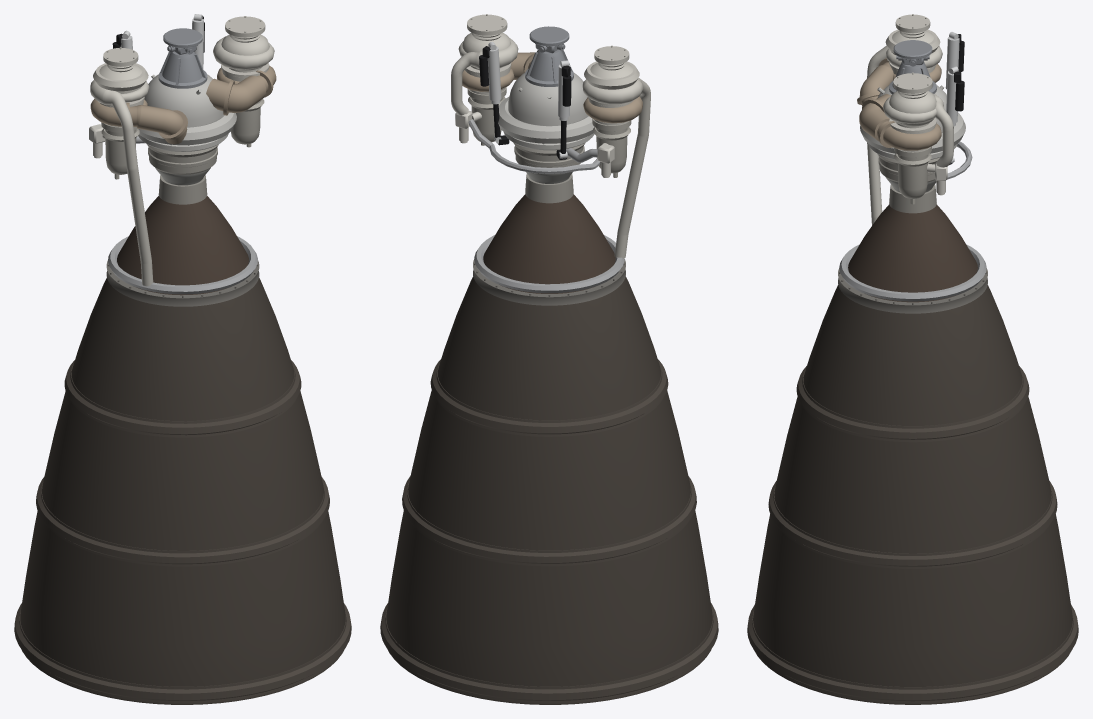
File: m2_vacuum.glb
3 renders of one model, left to right at view 1: azimuth 30°, elevation 25°; view 2: azimuth 150°, elevation 25°; view 3: azimuth 270°, elevation 25°, orthographic. The views are drawn at different scales.
Visible parts, largest first — view 1: M2V_NozzleExtension, M2V_HatRibs, M2V_RegenNozzle, M2V_Turbopumps, M2V_HotGasDucts, M2V_InjectorDome, M2V_ChamberJacket, M2V_Preburners, M2V_GimbalMount, M2V_ExtensionFlange, M2V_Lines, M2V_Actuators; view 2: M2V_NozzleExtension, M2V_HatRibs, M2V_RegenNozzle, M2V_Turbopumps, M2V_InjectorDome, M2V_Lines, M2V_Preburners, M2V_Actuators, M2V_ExtensionFlange, M2V_ChamberJacket, M2V_GimbalMount, M2V_HotGasDucts; view 3: M2V_NozzleExtension, M2V_HatRibs, M2V_RegenNozzle, M2V_Turbopumps, M2V_HotGasDucts, M2V_Lines, M2V_ExtensionFlange, M2V_Preburners, M2V_Actuators, M2V_ChamberJacket, M2V_GimbalMount, M2V_InjectorDome.
Boxes of the visible parts, bbox=[...] form: M2V_NozzleExtension: bbox=[20, 277, 345, 704]; M2V_HatRibs: bbox=[14, 360, 351, 703]; M2V_RegenNozzle: bbox=[117, 168, 248, 295]; M2V_Turbopumps: bbox=[90, 16, 274, 286]; M2V_HotGasDucts: bbox=[90, 65, 276, 144]; M2V_InjectorDome: bbox=[138, 74, 236, 151]; M2V_ChamberJacket: bbox=[147, 144, 218, 204]; M2V_Preburners: bbox=[89, 99, 264, 179]; M2V_GimbalMount: bbox=[158, 28, 207, 88]; M2V_ExtensionFlange: bbox=[106, 260, 259, 306]; M2V_Lines: bbox=[108, 136, 257, 294]; M2V_Actuators: bbox=[112, 14, 204, 68]; M2V_NozzleExtension: bbox=[386, 276, 712, 704]; M2V_HatRibs: bbox=[380, 359, 718, 703]; M2V_RegenNozzle: bbox=[483, 172, 615, 293]; M2V_Turbopumps: bbox=[451, 14, 650, 258]; M2V_InjectorDome: bbox=[498, 73, 594, 150]; M2V_Lines: bbox=[468, 119, 624, 293]; M2V_Preburners: bbox=[455, 87, 631, 177]; M2V_Actuators: bbox=[479, 42, 571, 159]; M2V_ExtensionFlange: bbox=[473, 259, 625, 305]; M2V_ChamberJacket: bbox=[513, 142, 585, 203]; M2V_GimbalMount: bbox=[525, 26, 573, 86]; M2V_HotGasDucts: bbox=[462, 52, 642, 123]; M2V_NozzleExtension: bbox=[753, 285, 1072, 704]; M2V_HatRibs: bbox=[747, 366, 1078, 703]; M2V_RegenNozzle: bbox=[848, 177, 977, 302]; M2V_Turbopumps: bbox=[867, 14, 953, 225]; M2V_HotGasDucts: bbox=[857, 58, 941, 150]; M2V_Lines: bbox=[839, 141, 986, 301]; M2V_ExtensionFlange: bbox=[838, 268, 987, 313]; M2V_Preburners: bbox=[894, 146, 947, 204]; M2V_Actuators: bbox=[945, 32, 964, 164]; M2V_ChamberJacket: bbox=[877, 154, 940, 213]; M2V_GimbalMount: bbox=[889, 40, 936, 94]; M2V_InjectorDome: bbox=[860, 85, 965, 159].
Bounding box in the file's own units: 2.35 × 4.6 × 2.35.
